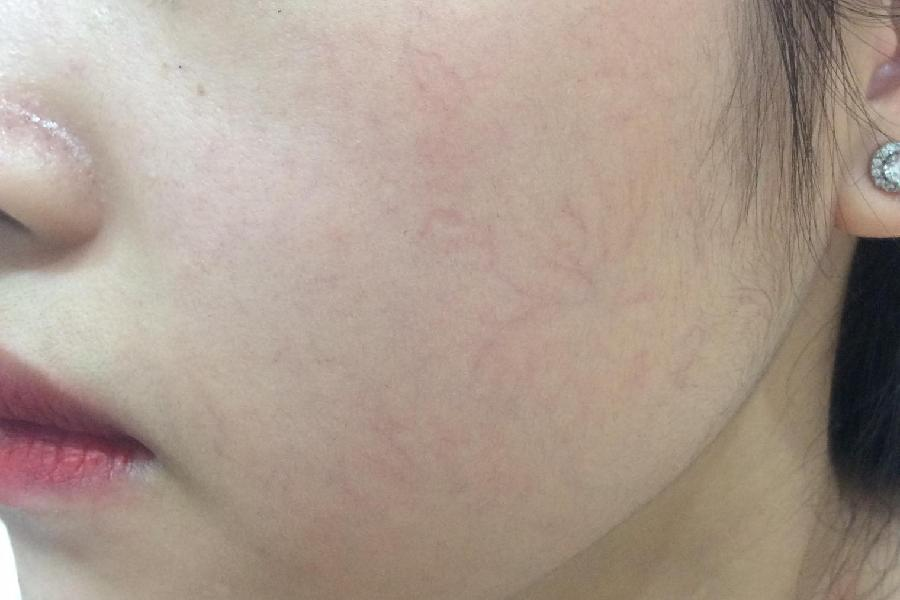Skin-Redness: (431, 175, 686, 397), (303, 408, 461, 520), (380, 16, 510, 126), (658, 311, 723, 416)
